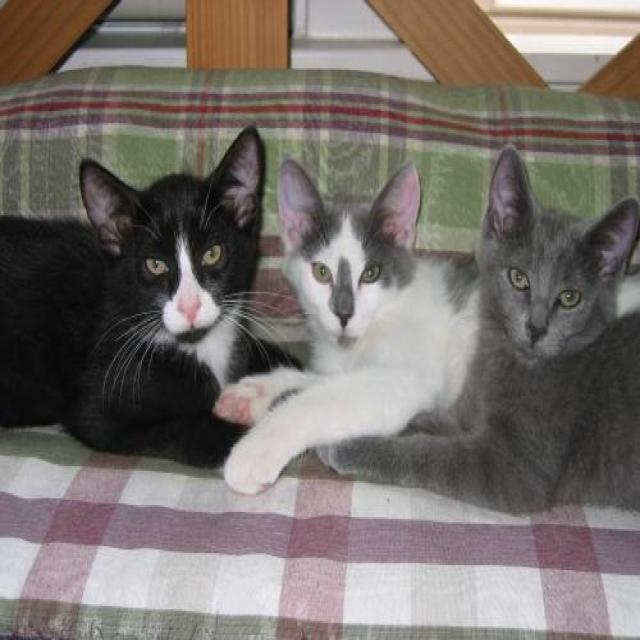Cats: (214, 143, 638, 517), (0, 123, 301, 469)
